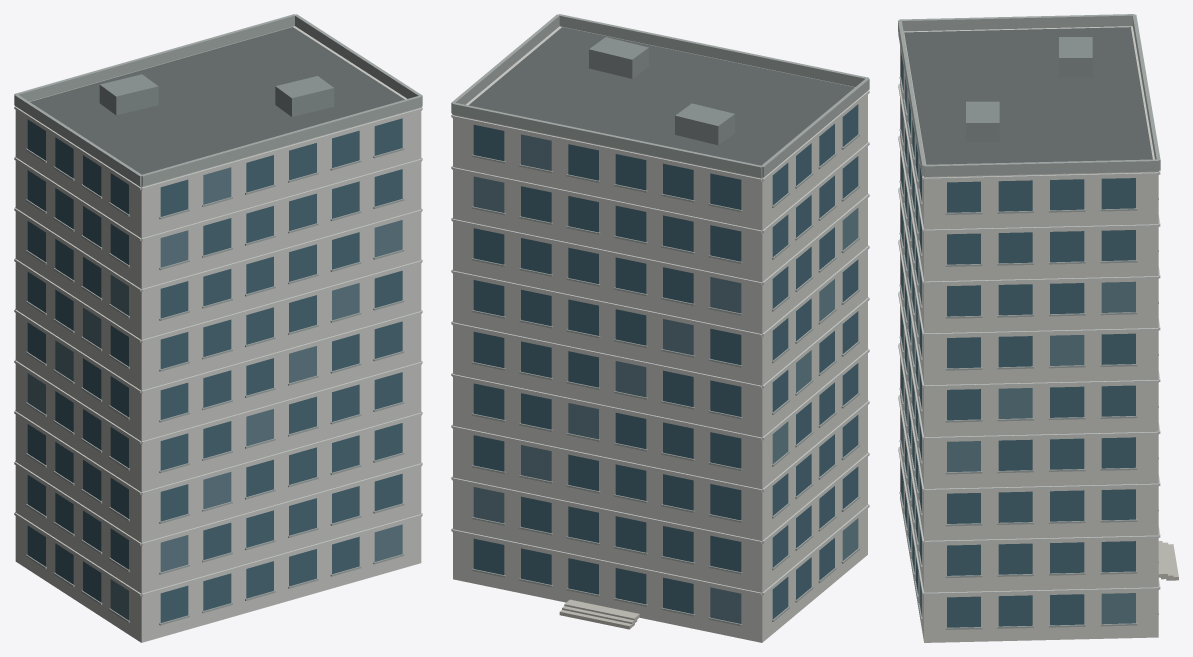
File: 软件园与科创楼-004.glb
3 renders of one model, left to right at view 1: azimuth 30°, elevation 25°; view 2: azimuth 150°, elevation 25°; view 3: azimuth 270°, elevation 25°, orthographic. The views are drawn at different scales.
Visible parts, largest first — view 1: 软件园与科创楼-004; view 2: 软件园与科创楼-004; view 3: 软件园与科创楼-004.
Boxes of the visible parts, x1,y1,x2,y2 form: 软件园与科创楼-004: (14,14,422,642); 软件园与科创楼-004: (451,14,869,642); 软件园与科创楼-004: (898,14,1178,642).
Size of the model in its own units: 23.11 by 34.42 by 18.
